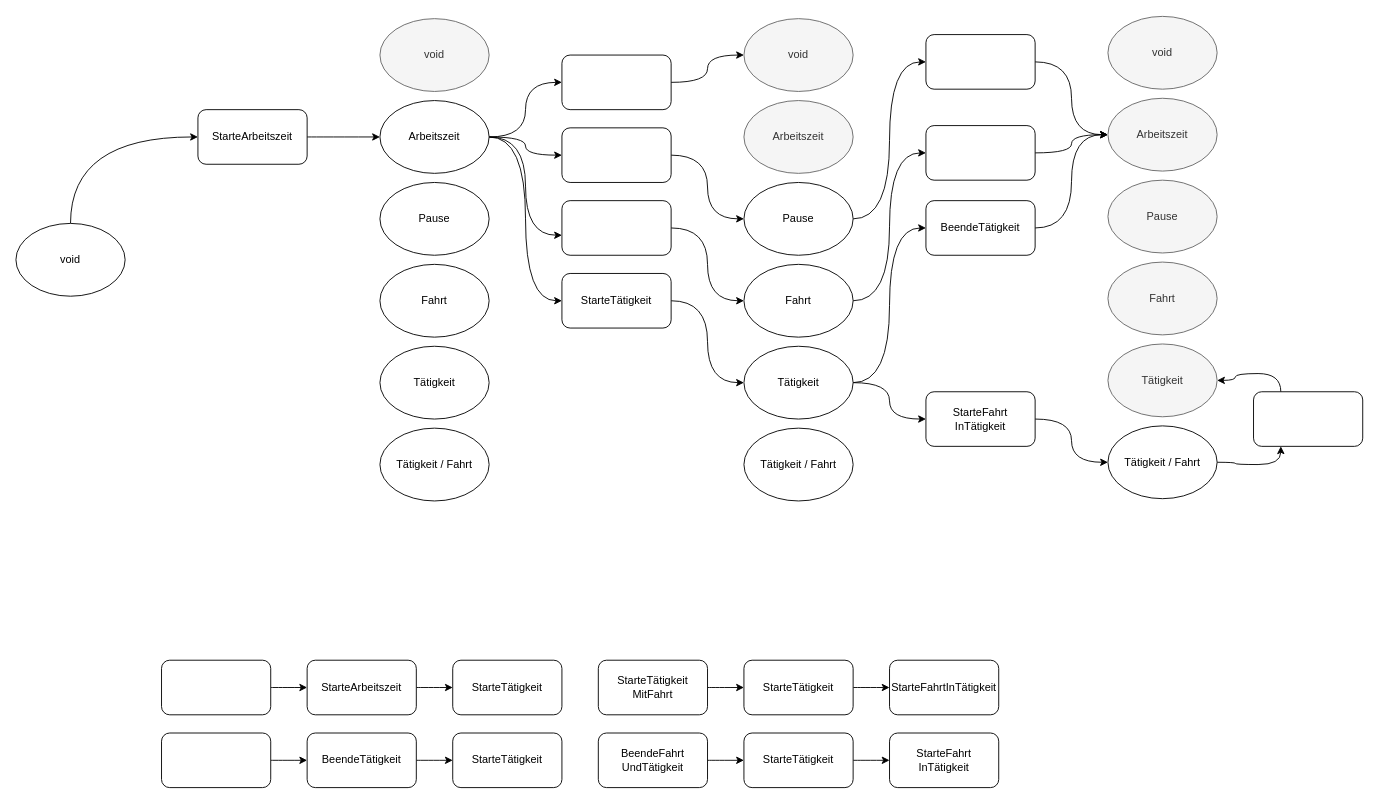
Image size: 1379x804. Some labels were removed from this diagram. Each missing label, with the centre of its shape:
"BeendeArbeitszeit" goes at point 616,82.
"BeendeFahrt" goes at point 980,152.
"BeendeFahrt InTätigkeit" goes at point 1308,418.
"BeendePause" goes at point 980,61.
"StarteArbeitszeit UndTaetigkeit" goes at point 216,687.
"StarteFahrt" goes at point 616,227.
"StartePause" goes at point 616,154.
"WechselTätigkeit" goes at point 216,760.
